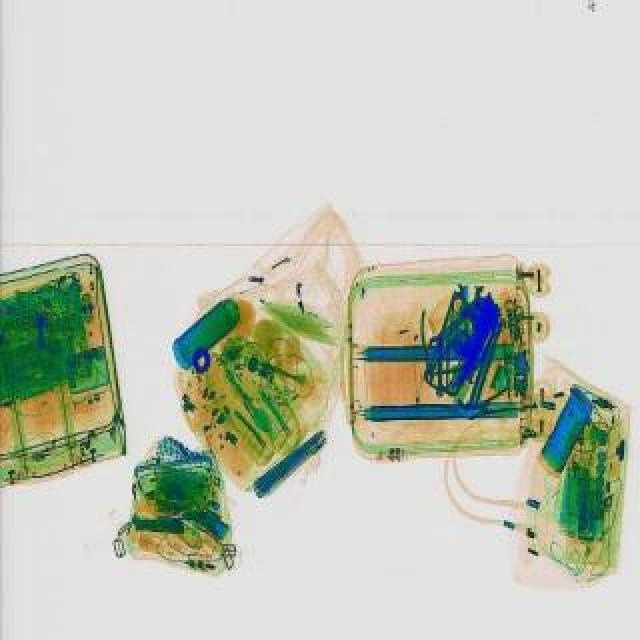scissors: (422, 304, 474, 352), (448, 282, 480, 318)
wrench: (408, 304, 460, 384)
